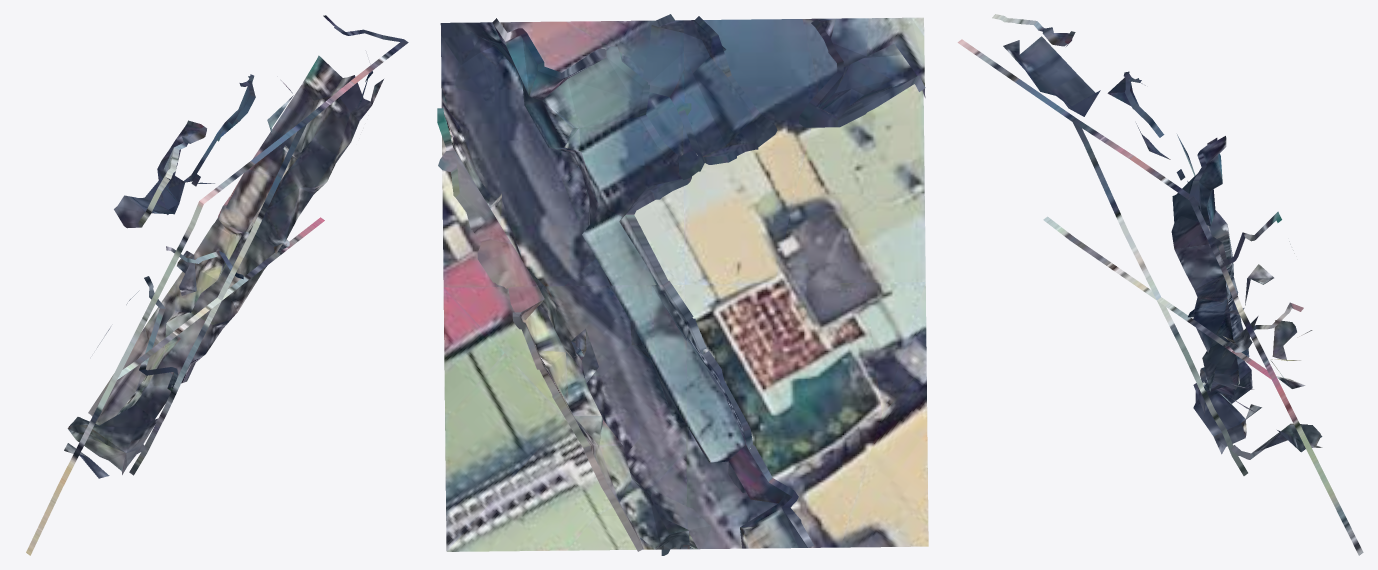
The picture shows the model from 3 angles, left to right: view 1: azimuth 30°, elevation 25°; view 2: azimuth 150°, elevation 25°; view 3: azimuth 270°, elevation 25°; orthographic projection. The views are drawn at different scales.
Size of the model in its own units: 37.97 by 37.71 by 31.94.
1 material, 1 textured.
